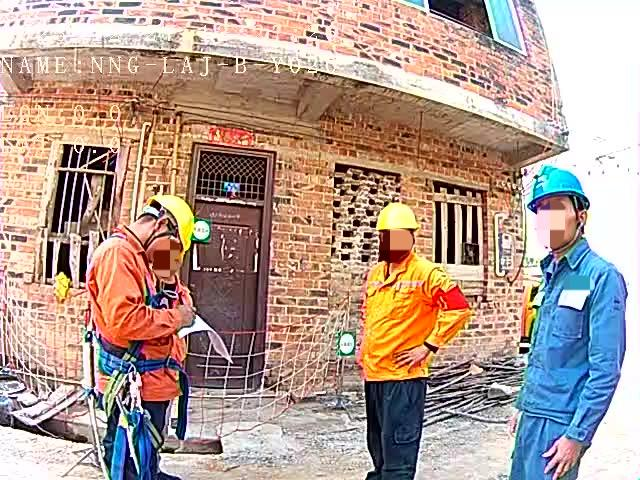halt: (528, 169, 595, 252), (137, 198, 199, 266), (377, 205, 424, 261)
inear: (147, 215, 173, 252), (571, 202, 593, 238)
